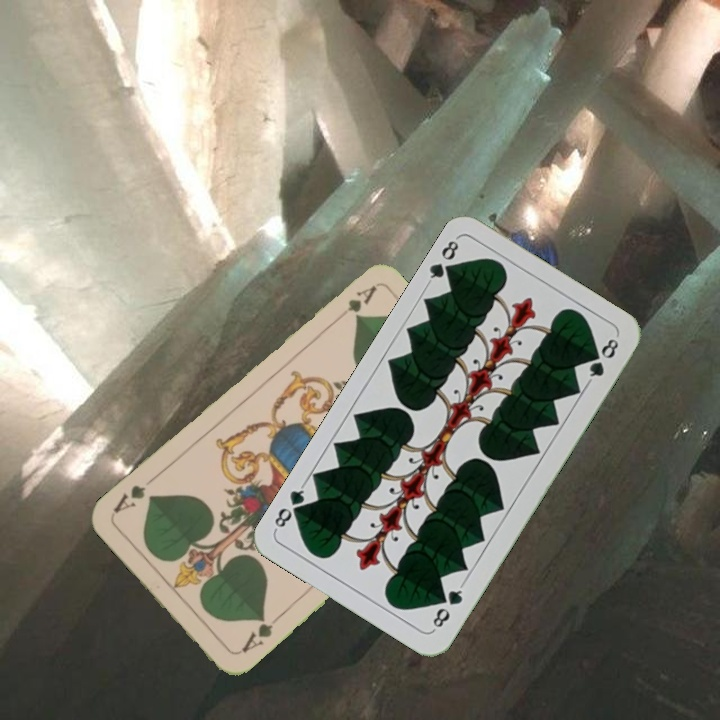G8: (423, 233, 462, 287), (428, 580, 466, 633)
GA: (234, 612, 282, 656), (343, 281, 379, 315)
